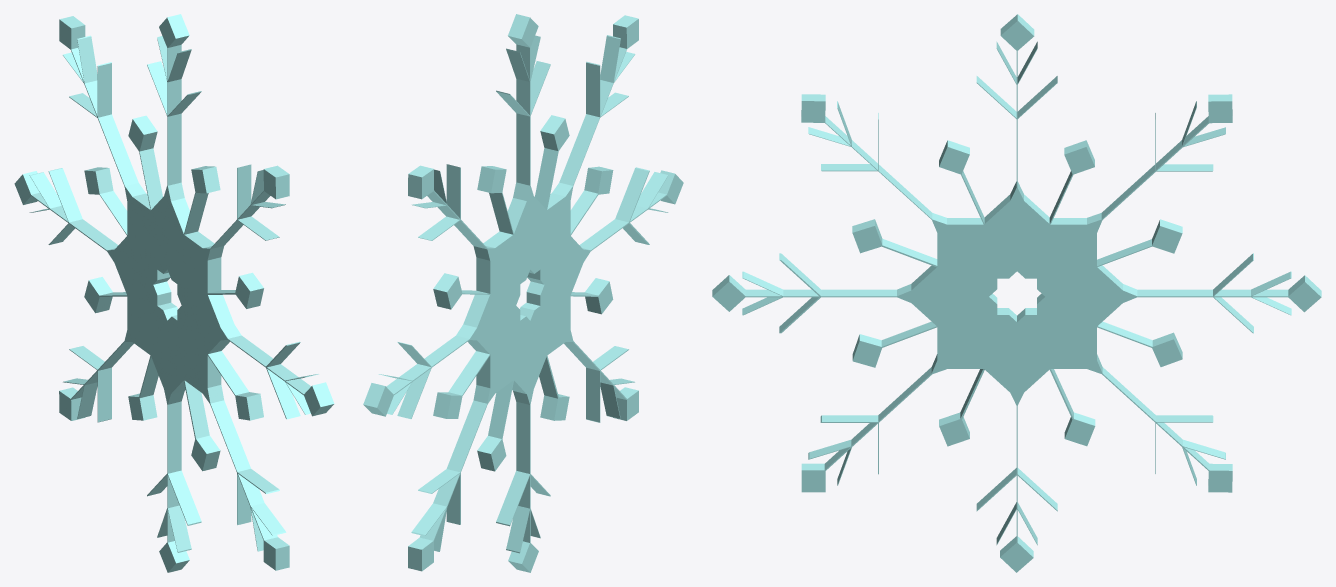
Rendered from Gelo.fbx.
3 renders of one model, left to right at view 1: azimuth 30°, elevation 25°; view 2: azimuth 150°, elevation 25°; view 3: azimuth 270°, elevation 25°, orthographic.
Parts seen in each view (by area): view 1: Floco de Neve; view 2: Floco de Neve; view 3: Floco de Neve.
Boxes of the visible parts, x1,y1,x2,y2 form: Floco de Neve: (14,14,334,572); Floco de Neve: (363,14,683,572); Floco de Neve: (712,14,1321,572).
Size of the model in its own units: 1 by 38.21 by 38.2.
